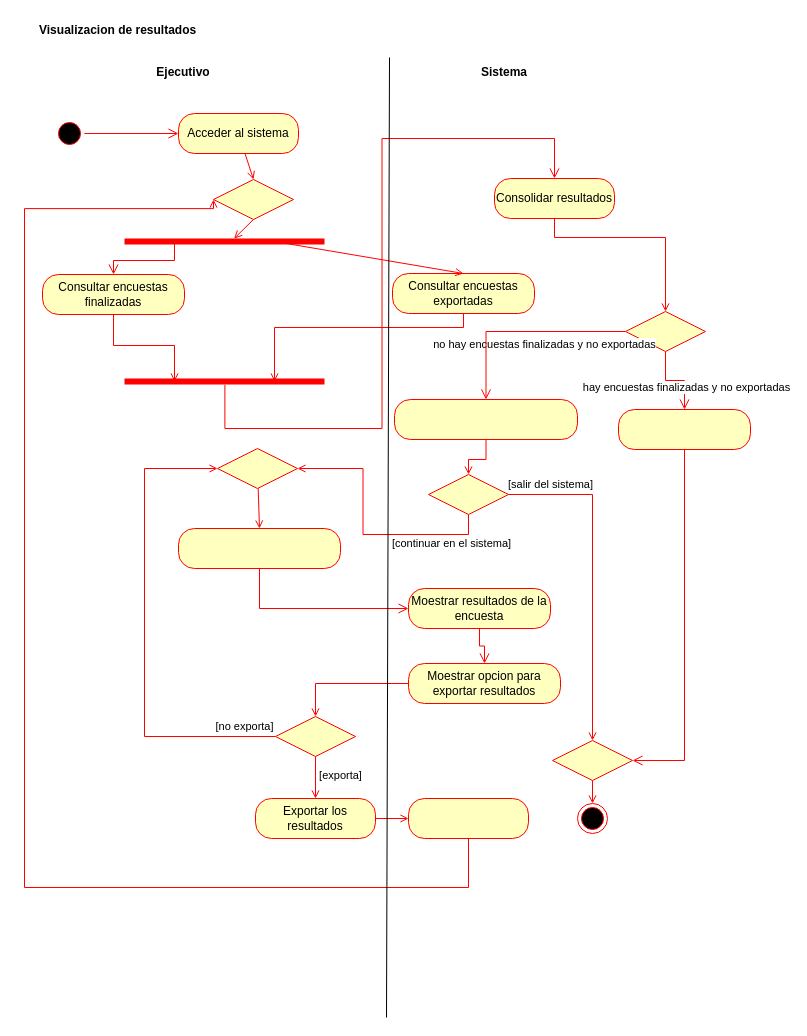
This 807x1036 diagram has some shape labels left out. Here are the shapes that lost their labels. From the top down, the box of each, then its label:
(394, 398, 578, 440): Moestrar las encuestas finalizadas y no exportadas
(618, 408, 750, 450): Informar que no hay resultados
(178, 528, 340, 568): Seleccionar una encuesta
(408, 798, 528, 838): Registrar la exportacion
